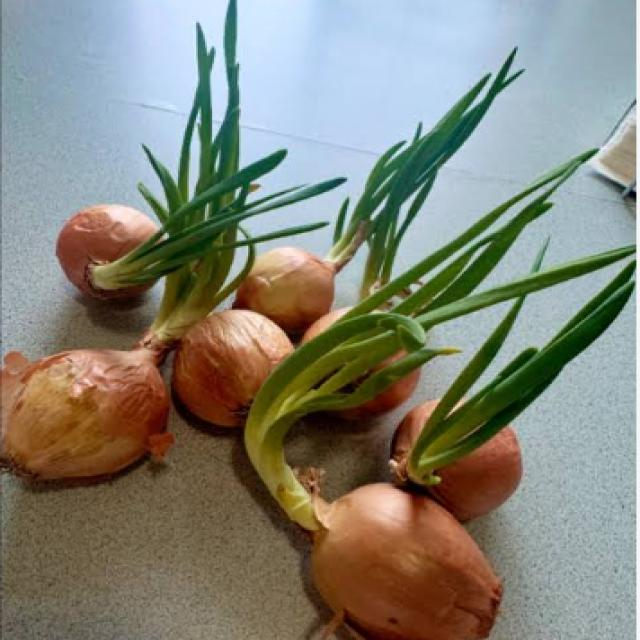sprouting: (34, 28, 293, 471)
